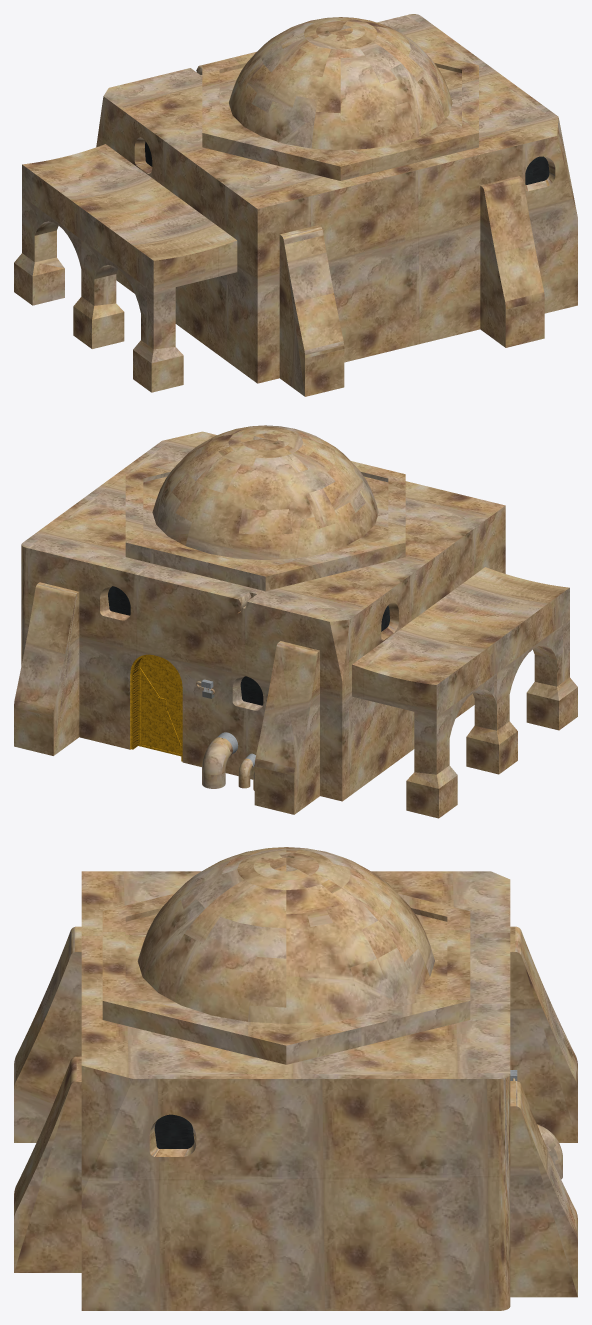
The model's file is tathouse2.glb.
3 views of the same model, one above another, from view 1: azimuth 30°, elevation 25°; view 2: azimuth 150°, elevation 25°; view 3: azimuth 270°, elevation 25° (orthographic). The views are drawn at different scales.
Visible parts, largest first — view 1: Object_8, Object_3; view 2: Object_8, Object_2, Object_3, Object_4; view 3: Object_8, Object_3.
Boxes of the visible parts, box(x1,y1,x2,y2) form: Object_8: box(14, 14, 577, 396); Object_3: box(145, 141, 549, 184); Object_8: box(14, 425, 577, 818); Object_2: box(130, 654, 182, 761); Object_3: box(108, 586, 389, 705); Object_4: box(133, 658, 141, 749); Object_8: box(14, 847, 577, 1310); Object_3: box(154, 1114, 194, 1148).
Bounding box in the file's own units: 9 × 5.42 × 8.09.
7 materials, 6 textured.
